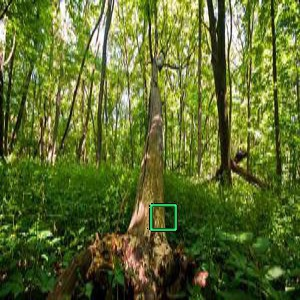square: (146, 201, 181, 234)
